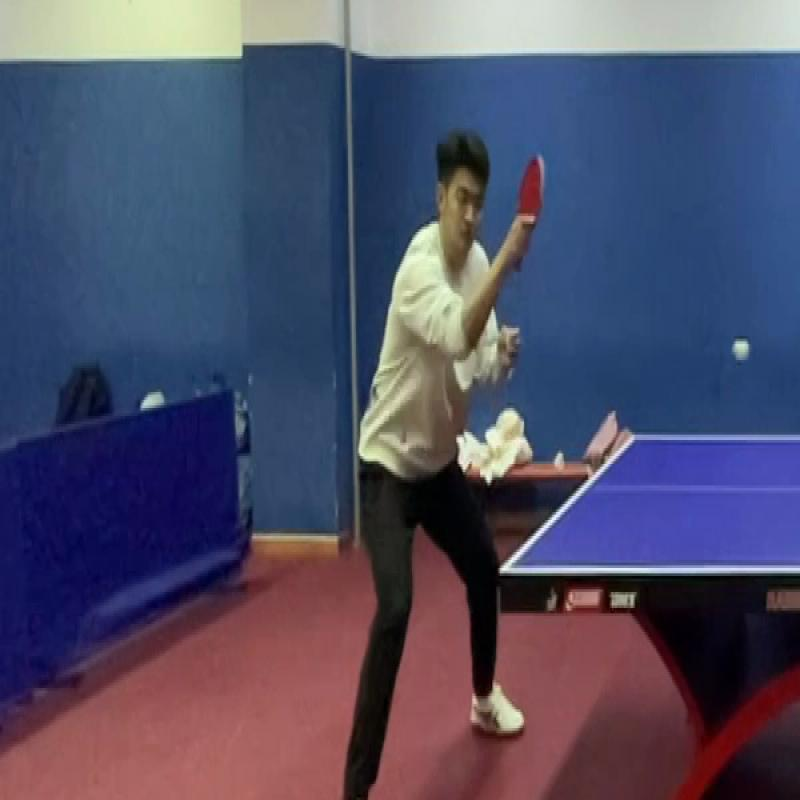bats: (499, 150, 559, 276)
